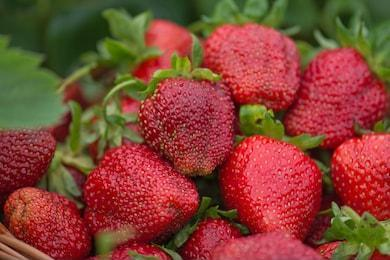Fresa: (77, 133, 204, 252), (277, 38, 390, 158), (214, 129, 328, 247), (135, 65, 241, 179), (196, 16, 303, 118), (324, 120, 390, 235)
